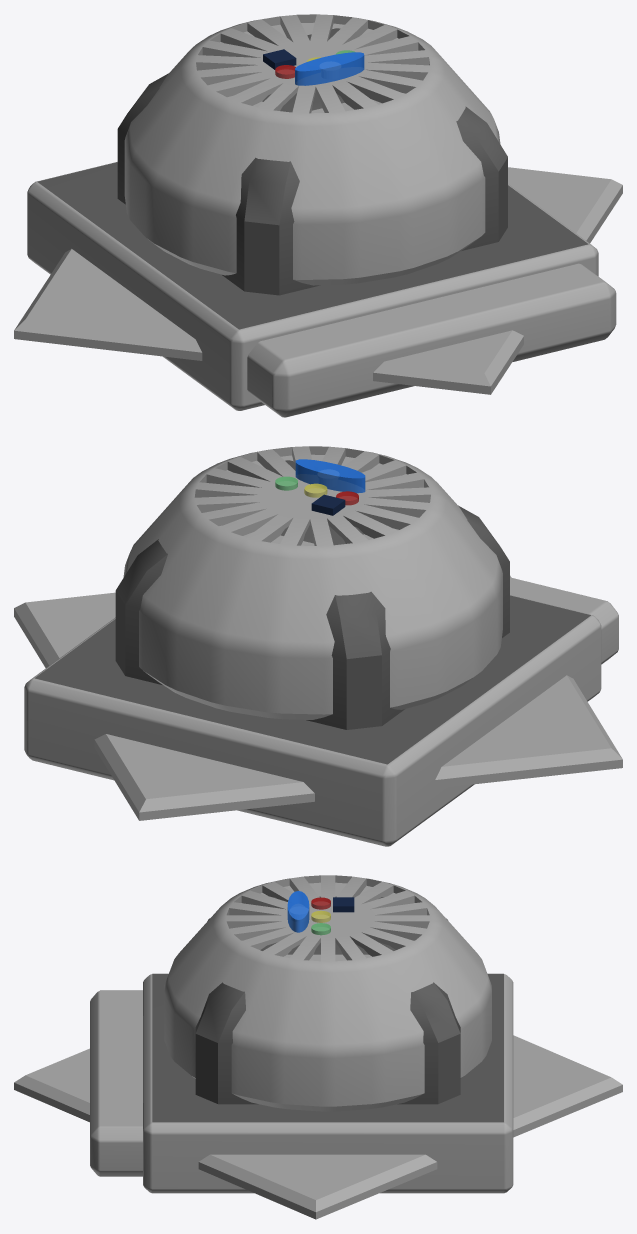
Rendered from habitat control module.fbx.
3 renders of one model, top to bottom at view 1: azimuth 30°, elevation 25°; view 2: azimuth 150°, elevation 25°; view 3: azimuth 270°, elevation 25°, orthographic. The views are drawn at different scales.
Parts seen in each view (by area): view 1: pCylinder1, pCube2, pCube4, pCube3, pCylinder5; view 2: pCylinder1, pCube2, pCube4, pCube3, pCylinder5; view 3: pCylinder1, pCube2, pCube4, pCube3, pCylinder5.
Part boxes in pixels (bbox=[...]): pCylinder1: bbox=[124, 14, 500, 285]; pCube2: bbox=[27, 162, 616, 417]; pCube4: bbox=[14, 167, 622, 394]; pCube3: bbox=[117, 28, 507, 295]; pCylinder5: bbox=[295, 52, 364, 85]; pCylinder1: bbox=[123, 446, 502, 719]; pCube2: bbox=[24, 577, 618, 846]; pCube4: bbox=[14, 575, 622, 820]; pCube3: bbox=[115, 460, 509, 729]; pCylinder5: bbox=[295, 459, 365, 493]; pCylinder1: bbox=[164, 875, 491, 1111]; pCube2: bbox=[90, 973, 513, 1193]; pCube4: bbox=[14, 1035, 622, 1219]; pCube3: bbox=[195, 896, 460, 1104]; pCylinder5: bbox=[287, 891, 309, 932].
Size of the model in its own units: 1.06 by 0.4081 by 1.06.
